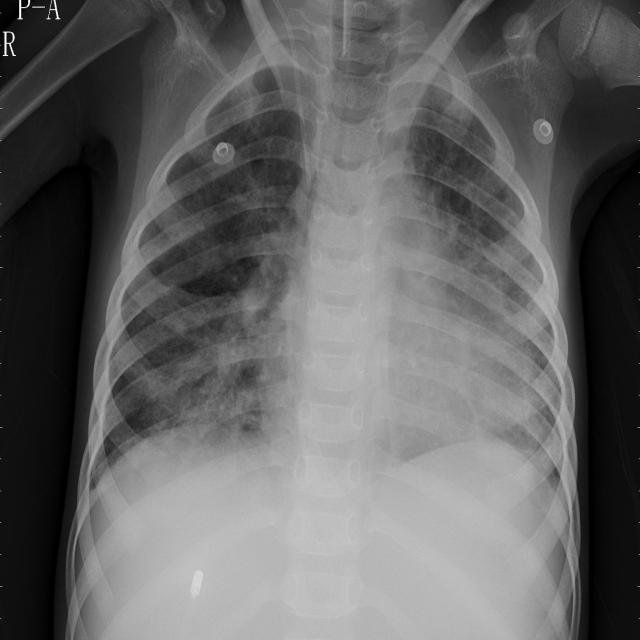low-pneumonia: (148, 215, 297, 434), (458, 212, 567, 398)
